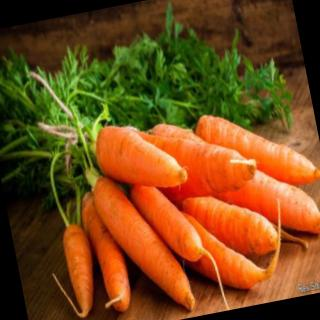Wortel: (91, 165, 196, 320), (189, 93, 320, 207), (91, 112, 190, 200), (129, 172, 209, 275), (52, 221, 105, 320)
